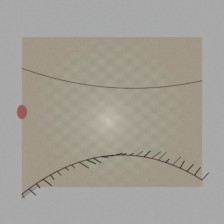pinguecula_lesion: (141, 104, 175, 132)
